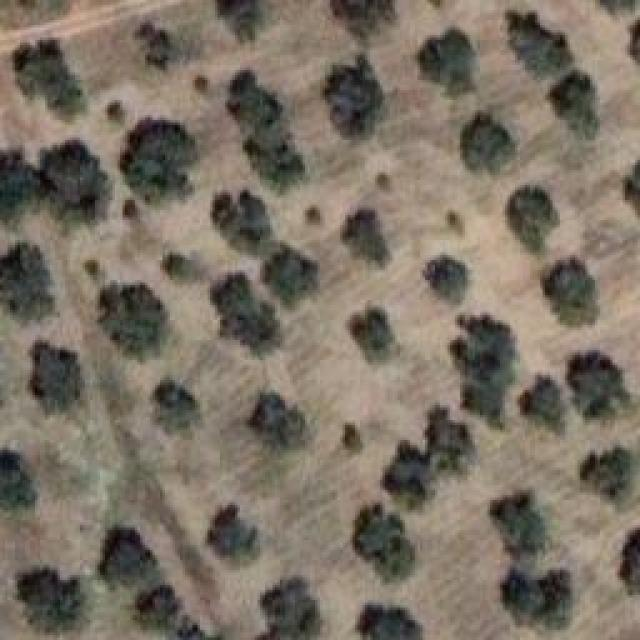Tree: (8, 40, 89, 113), (325, 57, 392, 141), (208, 273, 278, 352), (98, 285, 174, 357), (125, 123, 195, 200), (48, 137, 111, 221), (568, 348, 635, 426), (0, 240, 58, 326), (503, 570, 576, 634), (505, 5, 573, 71), (27, 340, 87, 414), (20, 568, 84, 636), (357, 503, 415, 575), (455, 315, 518, 380), (418, 30, 478, 96), (490, 493, 547, 561), (260, 578, 322, 640), (548, 258, 603, 326), (247, 123, 304, 186), (550, 73, 602, 141), (337, 205, 394, 267), (0, 148, 43, 229), (423, 404, 474, 472), (463, 110, 518, 173), (100, 528, 155, 589), (580, 448, 640, 503), (510, 190, 563, 252), (320, 0, 402, 40), (215, 192, 272, 248), (150, 377, 203, 435), (225, 67, 277, 125), (383, 448, 434, 507), (265, 243, 314, 304), (350, 308, 401, 364), (250, 393, 307, 443), (0, 448, 42, 513), (357, 600, 425, 640), (208, 508, 258, 562), (218, 0, 271, 50), (458, 378, 513, 426), (133, 583, 181, 634), (428, 248, 472, 302), (135, 22, 175, 79), (520, 378, 563, 427), (157, 253, 202, 289), (617, 530, 640, 595), (343, 418, 365, 459), (80, 255, 104, 289), (300, 203, 326, 227), (118, 198, 142, 223), (600, 0, 640, 15), (193, 75, 217, 97), (445, 208, 465, 233), (370, 170, 390, 192), (108, 100, 126, 123)
